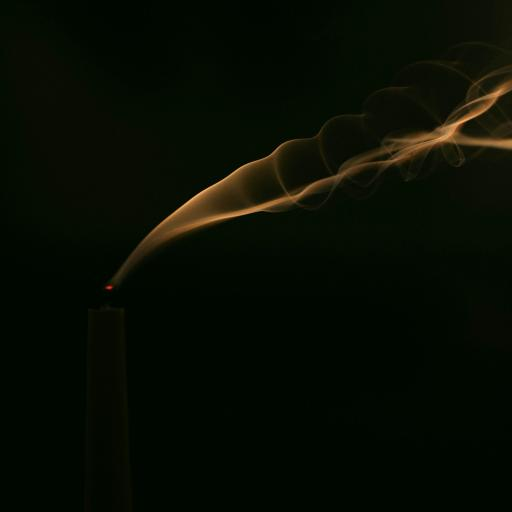nofire: (0, 0, 512, 504)
